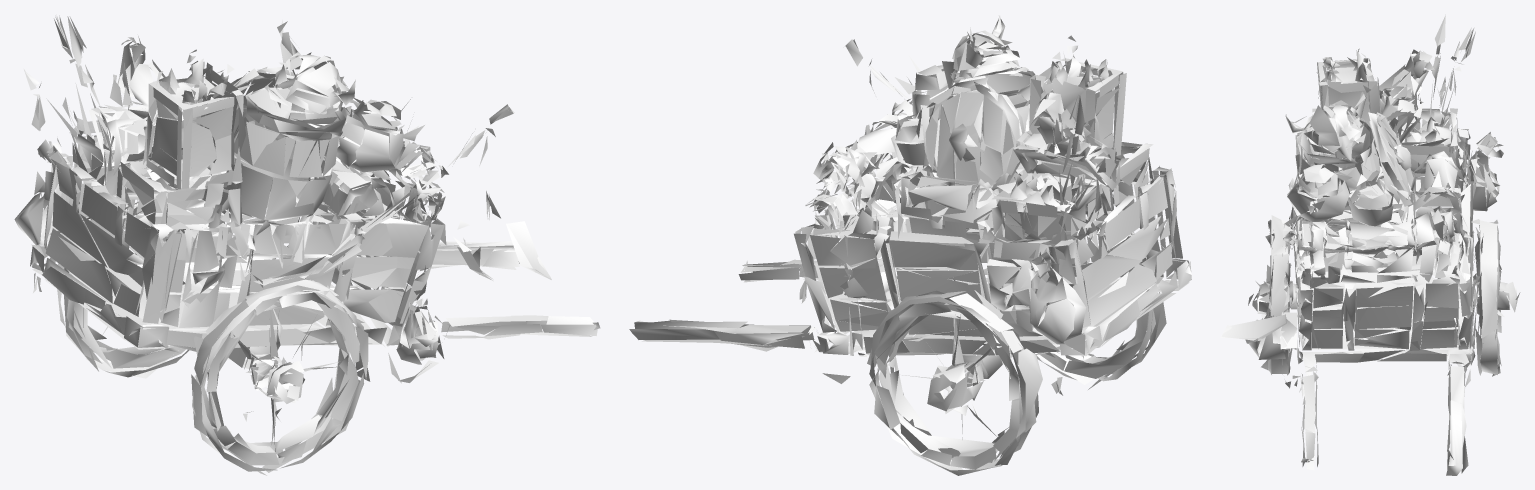
The model's file is merchant_cart_lod2.glb.
The picture shows the model from 3 angles, left to right: view 1: azimuth 30°, elevation 25°; view 2: azimuth 150°, elevation 25°; view 3: azimuth 270°, elevation 25°; orthographic projection. The views are drawn at different scales.
Visible parts, largest first — view 1: merchant_cart; view 2: merchant_cart; view 3: merchant_cart.
Boxes of the visible parts, x1,y1,x2,y2 form: merchant_cart: (14, 14, 600, 475); merchant_cart: (629, 15, 1191, 475); merchant_cart: (1220, 14, 1520, 475).
Size of the model in its own units: 2.47 by 1.94 by 1.64.
Materials: 1 (1 with a texture image).
